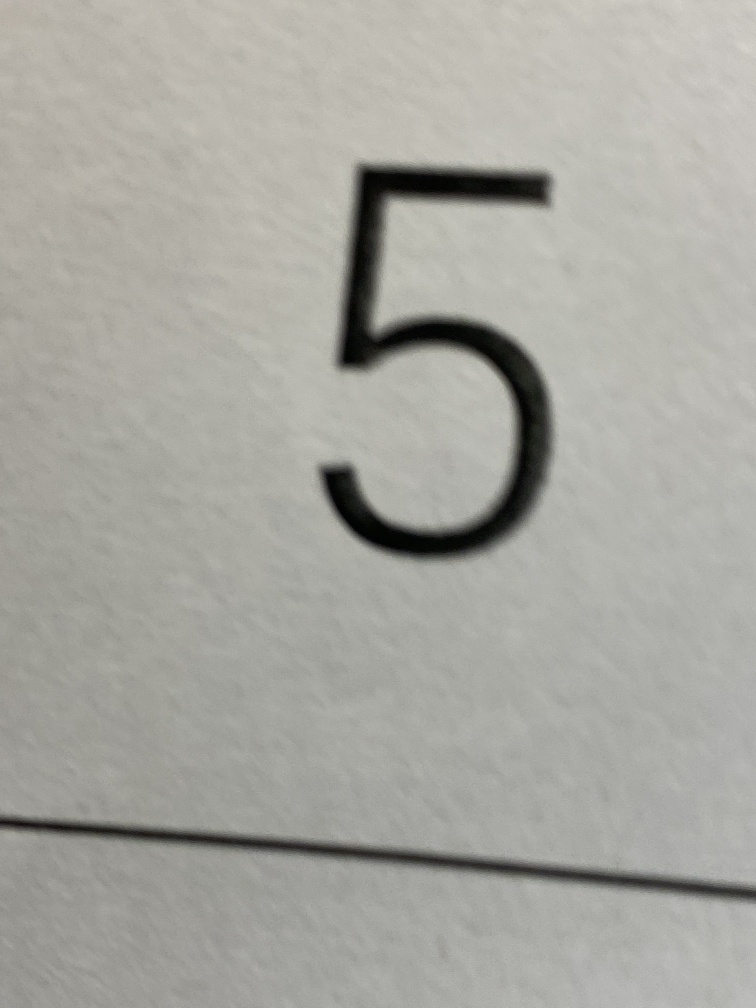five: (252, 94, 627, 637)
